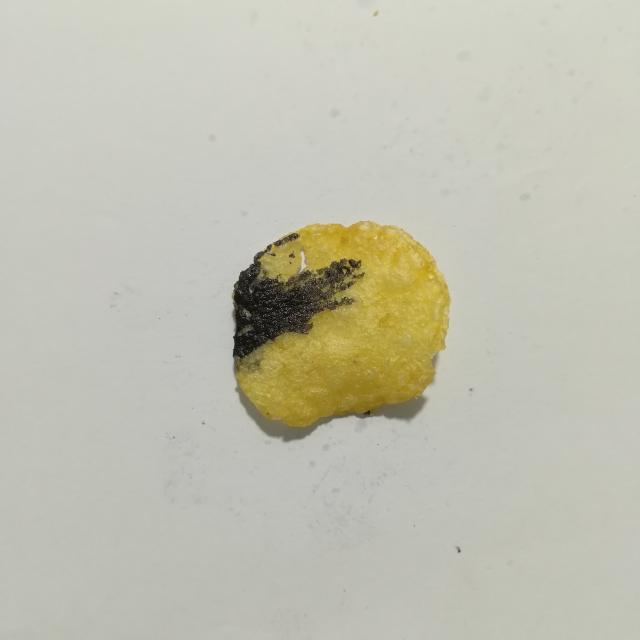chip: (233, 222, 450, 426)
damaged: (233, 233, 364, 360), (289, 251, 295, 258), (363, 411, 371, 415), (289, 260, 292, 265)
semi-damaged: (235, 341, 271, 372)
